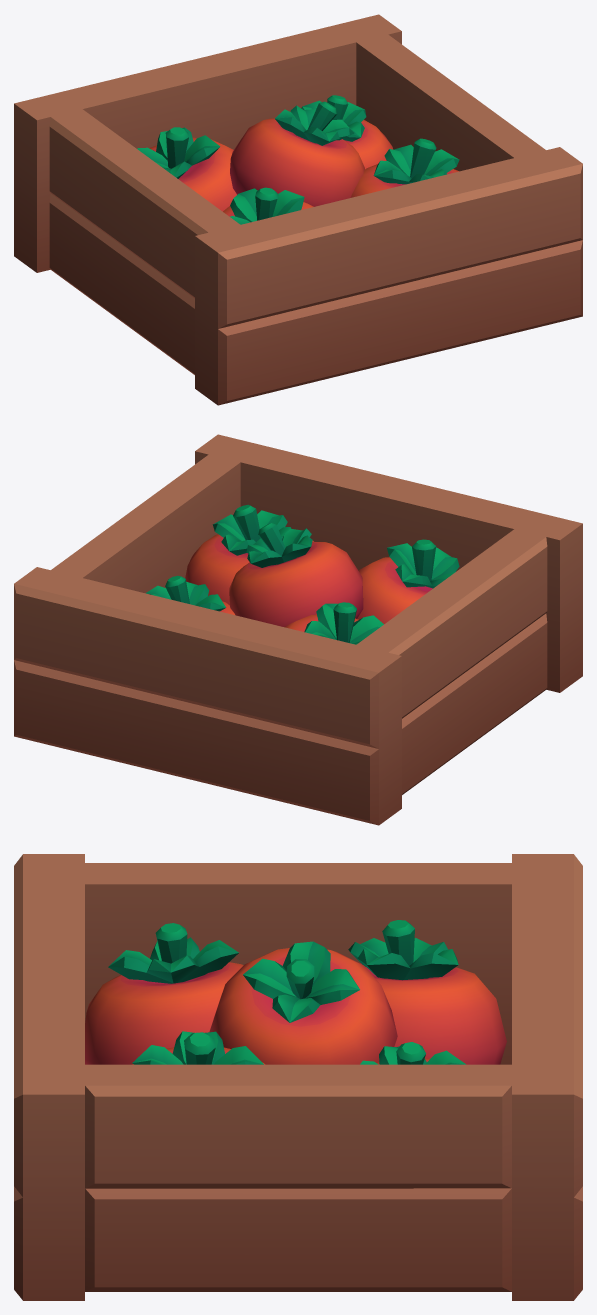
File: fruit_crate_1.glb
The picture shows the model from 3 angles, top to bottom: view 1: azimuth 30°, elevation 25°; view 2: azimuth 150°, elevation 25°; view 3: azimuth 270°, elevation 25°; orthographic projection. The views are drawn at different scales.
Parts seen in each view (by area): view 1: crate_tomatoes; view 2: crate_tomatoes; view 3: crate_tomatoes.
Part boxes in pixels (x1,y1,x2,y2): crate_tomatoes: [14, 14, 582, 405]; crate_tomatoes: [14, 434, 582, 825]; crate_tomatoes: [14, 854, 582, 1300].
Size of the model in its own units: 0.55 by 0.2539 by 0.55.
Materials: 1 (1 with a texture image).
